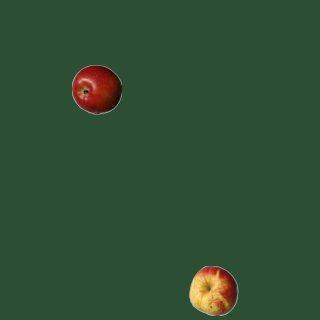Apple Braeburn: (71, 64, 121, 114)
Apple Red Yellow 1: (188, 265, 238, 315)
